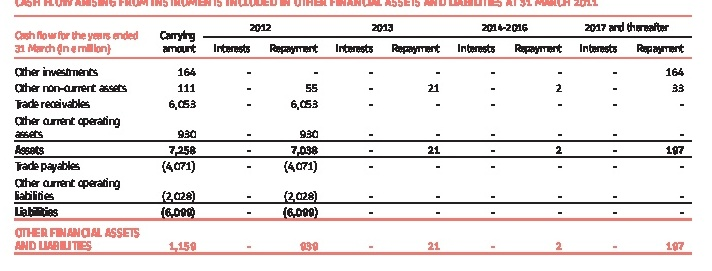table: (0, 0, 712, 271)
